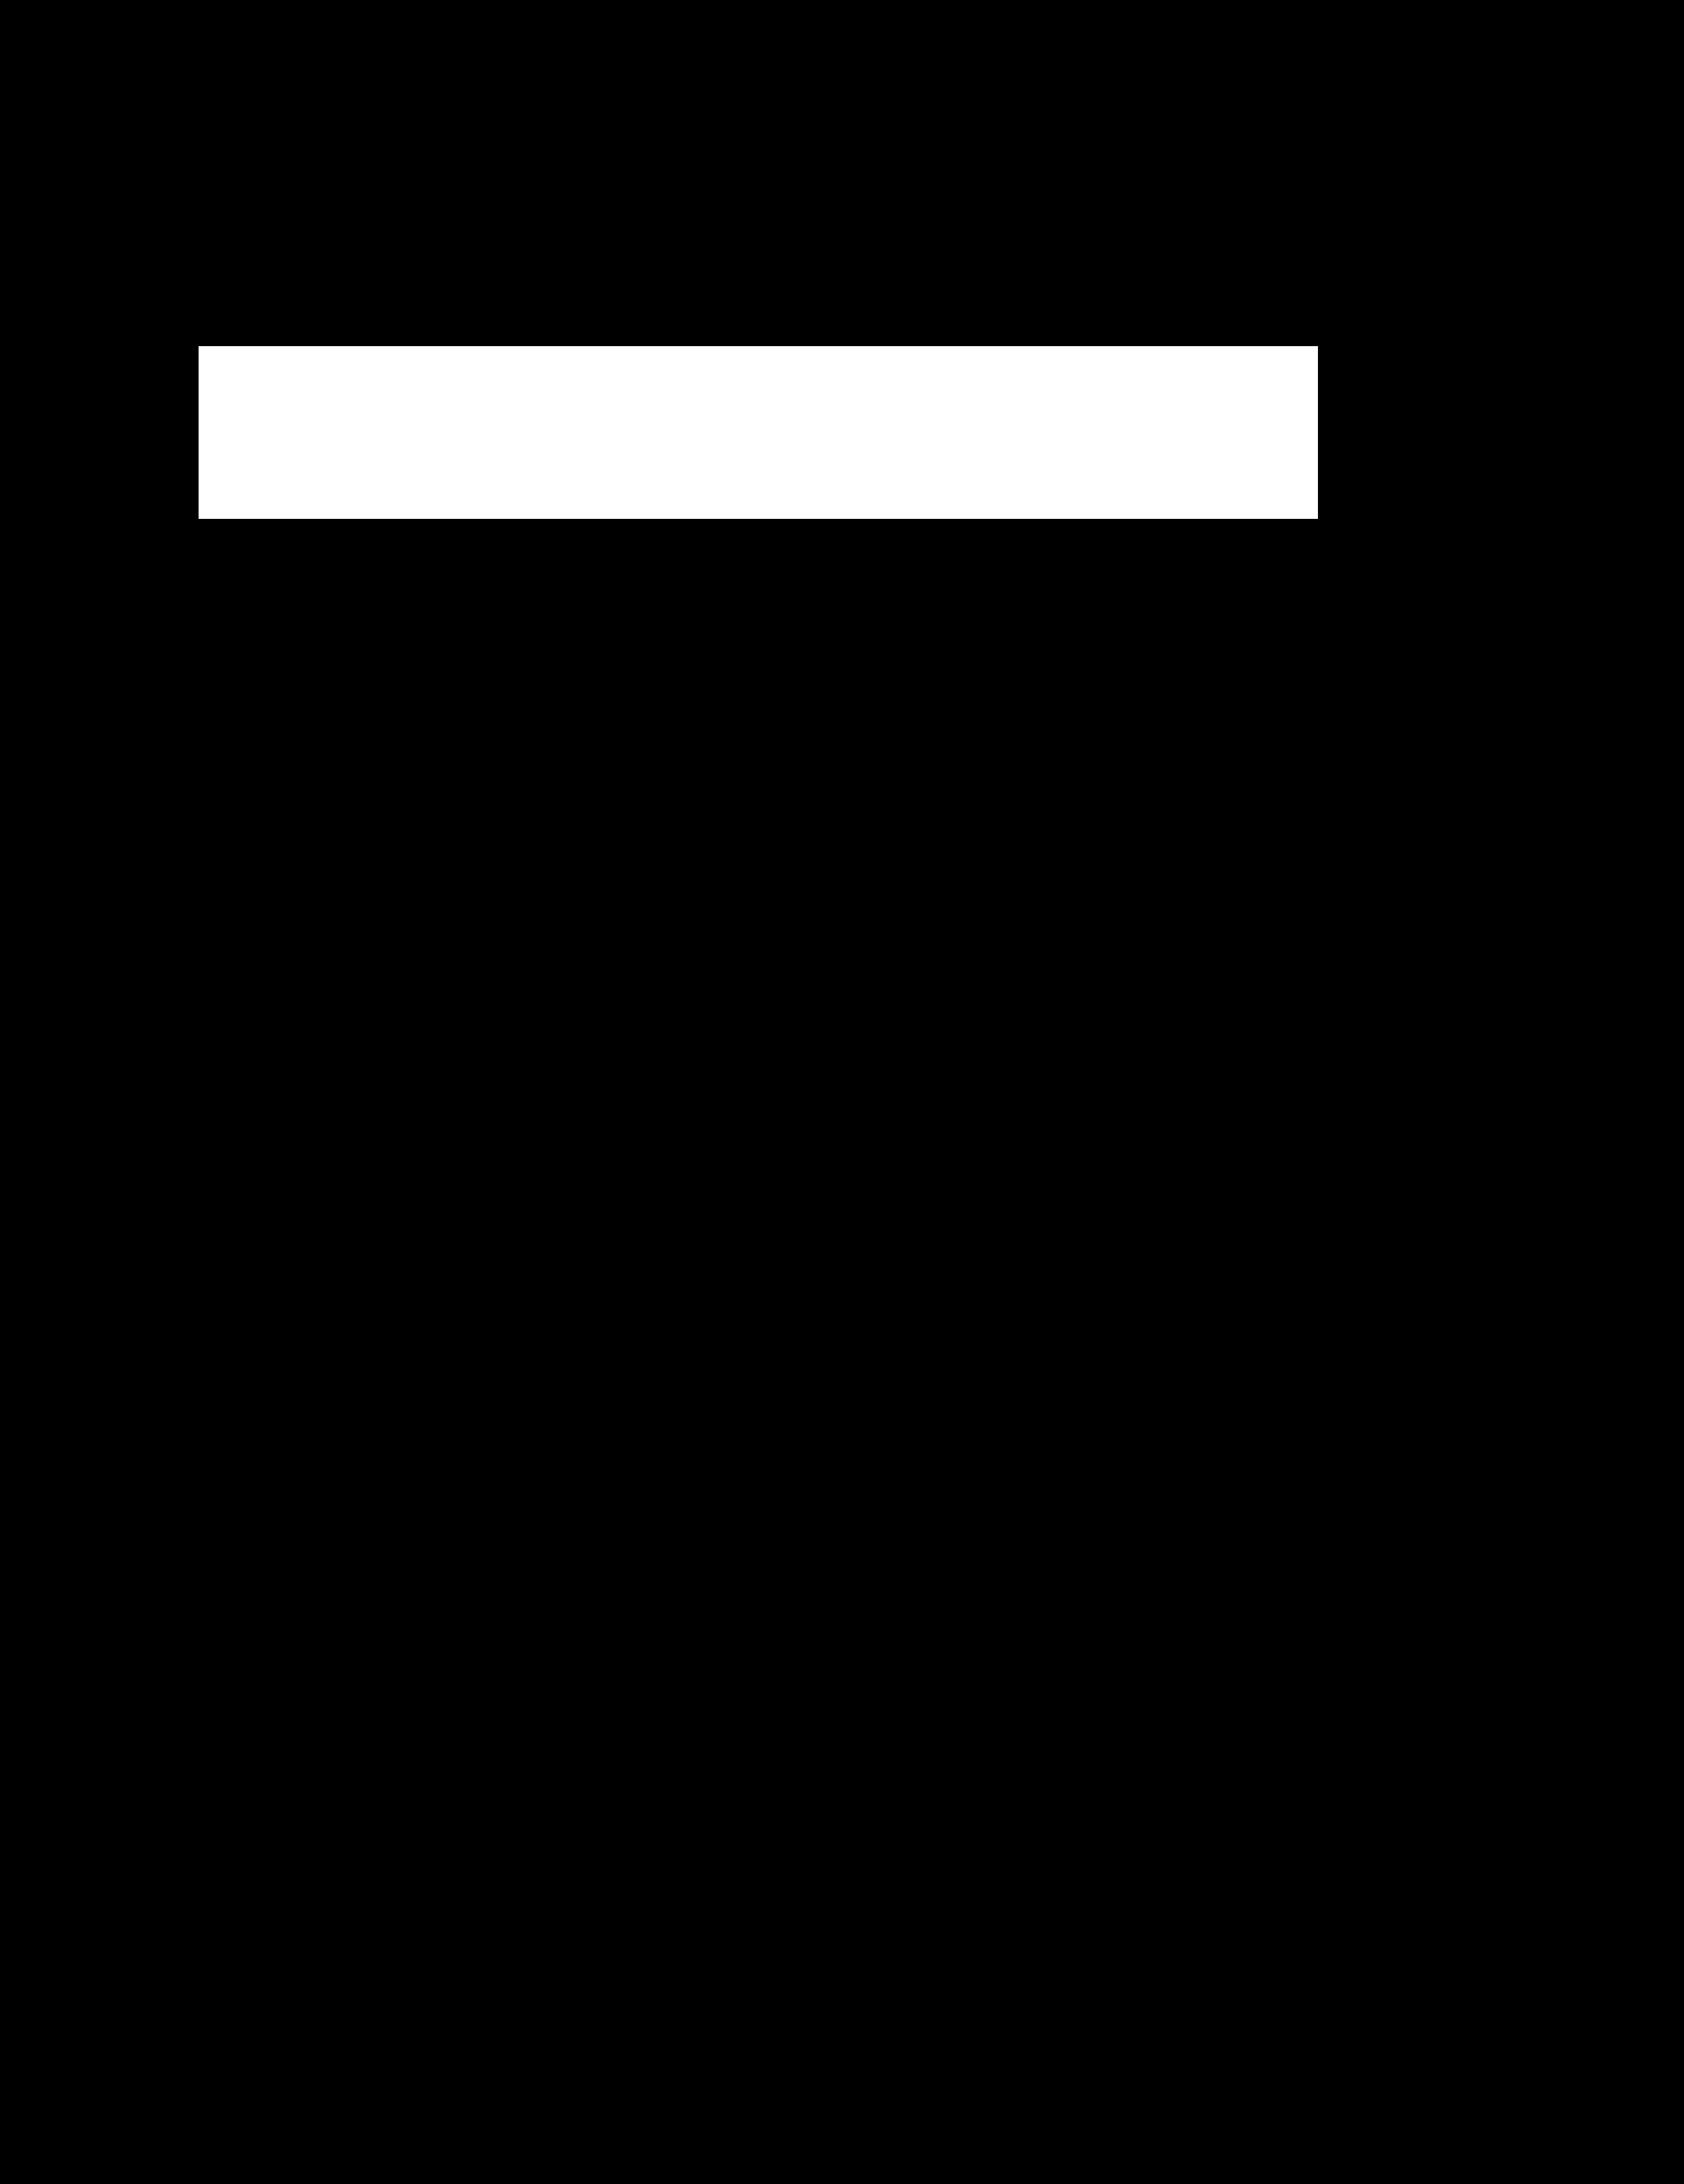table: (198, 347, 1318, 518)
